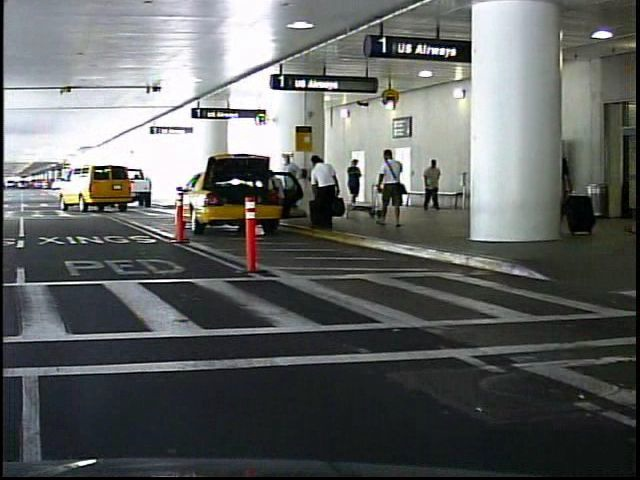person: (370, 145, 407, 230), (419, 153, 440, 215)
